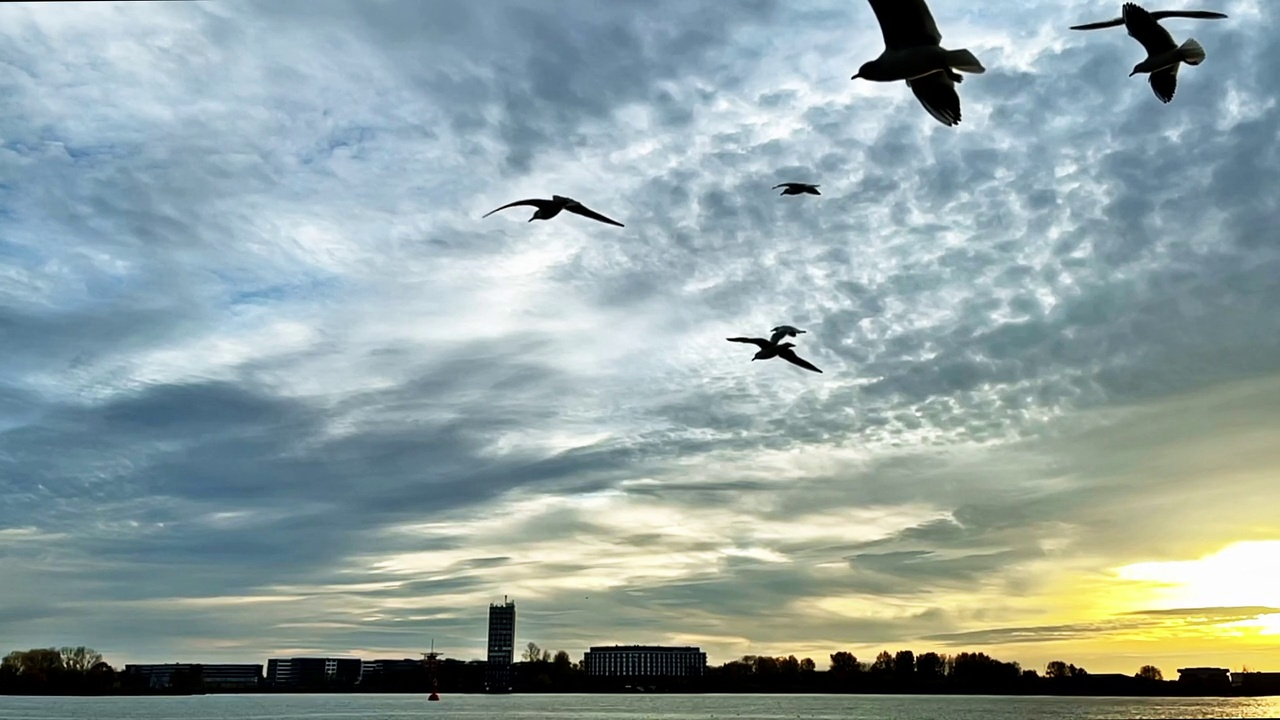bird: (849, 0, 985, 127), (1123, 2, 1204, 103), (482, 195, 623, 227), (728, 336, 822, 374), (773, 176, 820, 196), (768, 326, 805, 342)
